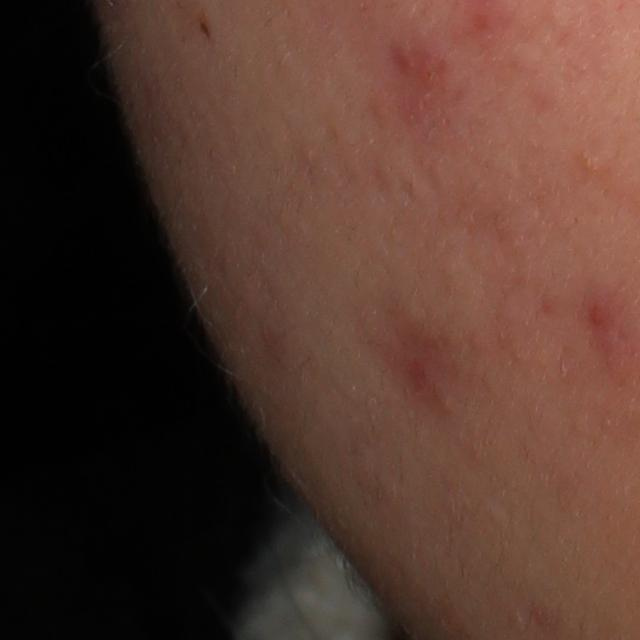comedo: (575, 143, 605, 172)
